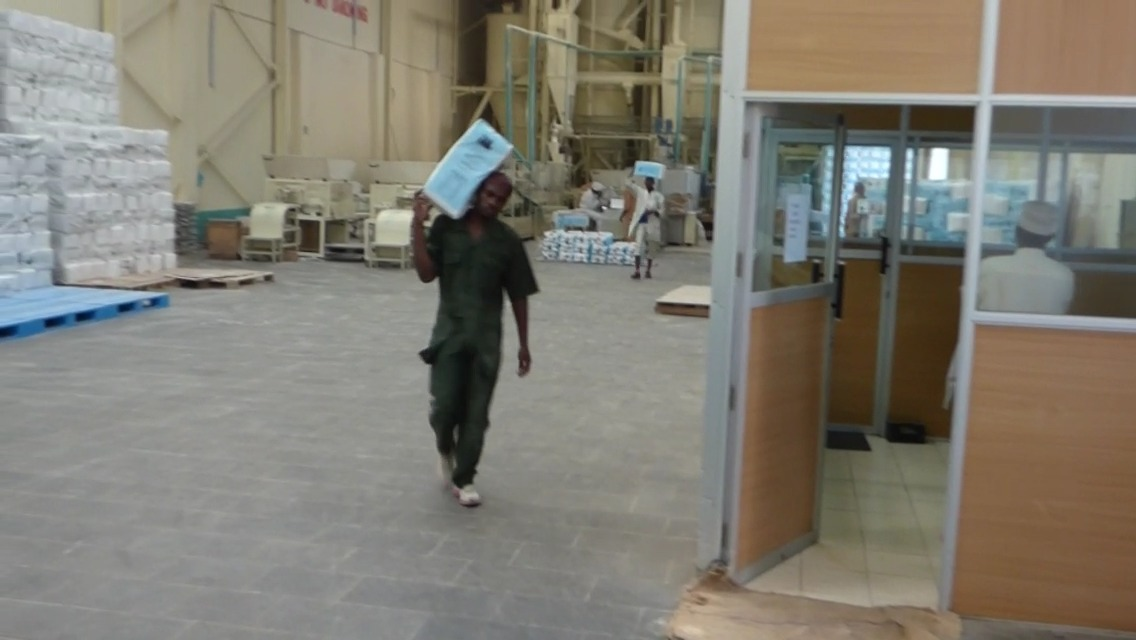wheat_flour_blue_label: (427, 124, 504, 211)
